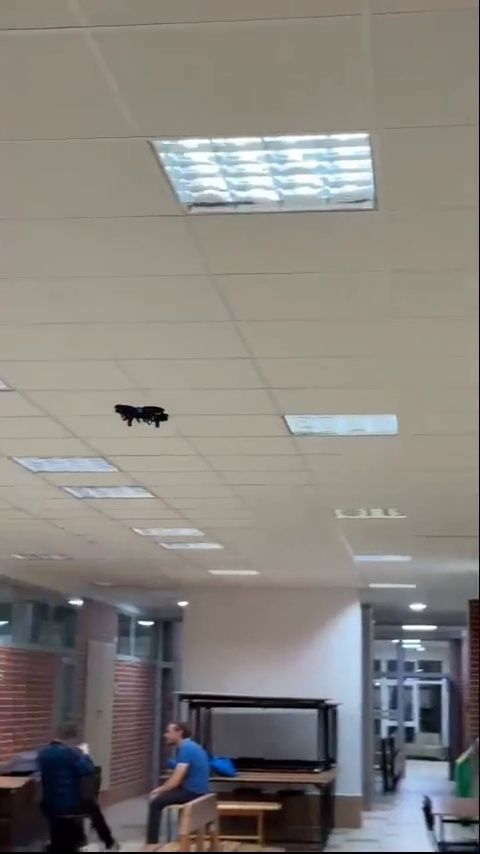drone: (112, 403, 170, 431)
no vest: (34, 722, 123, 845), (143, 715, 230, 821)
